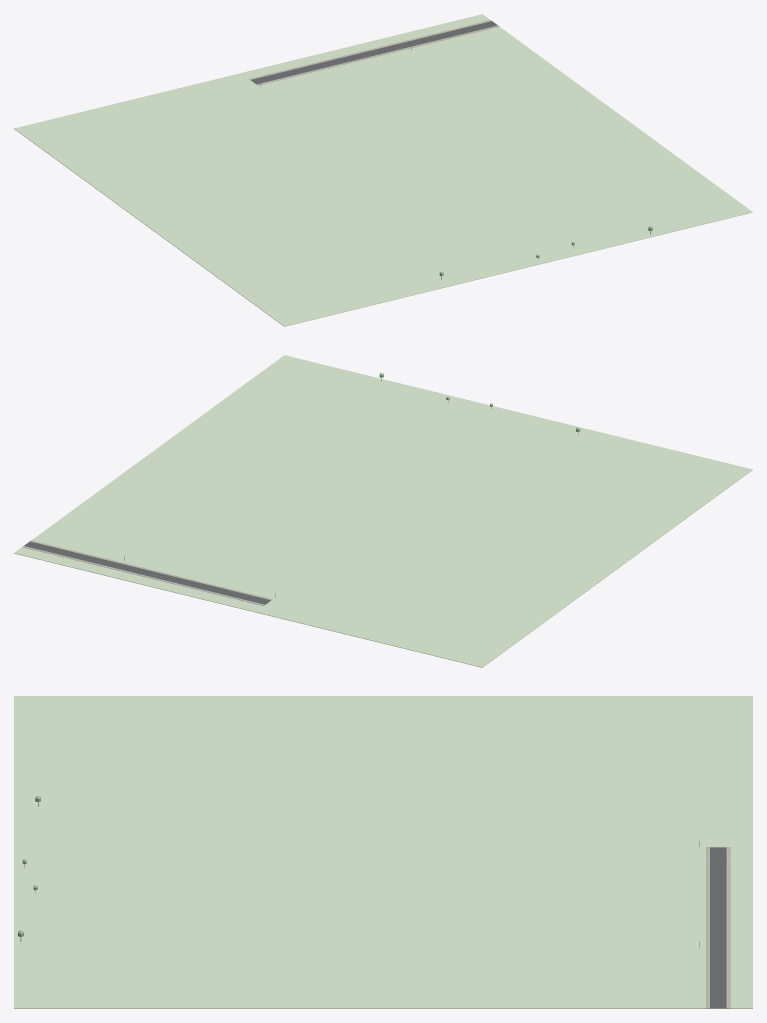
Rendered from chunk_0_2_low.glb.
3 renders of one model, top to bottom at view 1: azimuth 30°, elevation 25°; view 2: azimuth 150°, elevation 25°; view 3: azimuth 270°, elevation 25°, orthographic. The views are drawn at different scales.
Visible parts, largest first — view 1: city_grass, city_world_asphalt, city_world_sidewalk; view 2: city_grass, city_world_asphalt, city_world_sidewalk; view 3: city_grass, city_world_asphalt, city_world_sidewalk.
Part boxes in pixels (x1,y1,x2,y2): city_grass: [14, 14, 752, 326]; city_world_asphalt: [251, 21, 497, 84]; city_world_sidewalk: [249, 20, 499, 85]; city_grass: [14, 355, 752, 667]; city_world_asphalt: [24, 541, 270, 604]; city_world_sidewalk: [22, 540, 272, 605]; city_grass: [14, 696, 752, 1008]; city_world_asphalt: [710, 847, 726, 1008]; city_world_sidewalk: [706, 847, 730, 1008].
Size of the model in its own units: 512 by 9.12 by 512.
